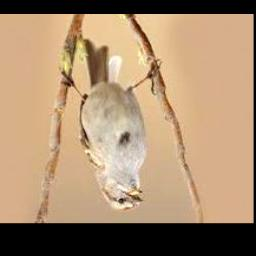Sparrow: (61, 40, 162, 211)
